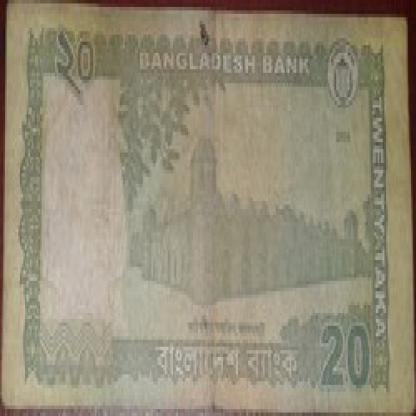Twenty: (313, 319, 381, 412), (50, 31, 128, 97)
